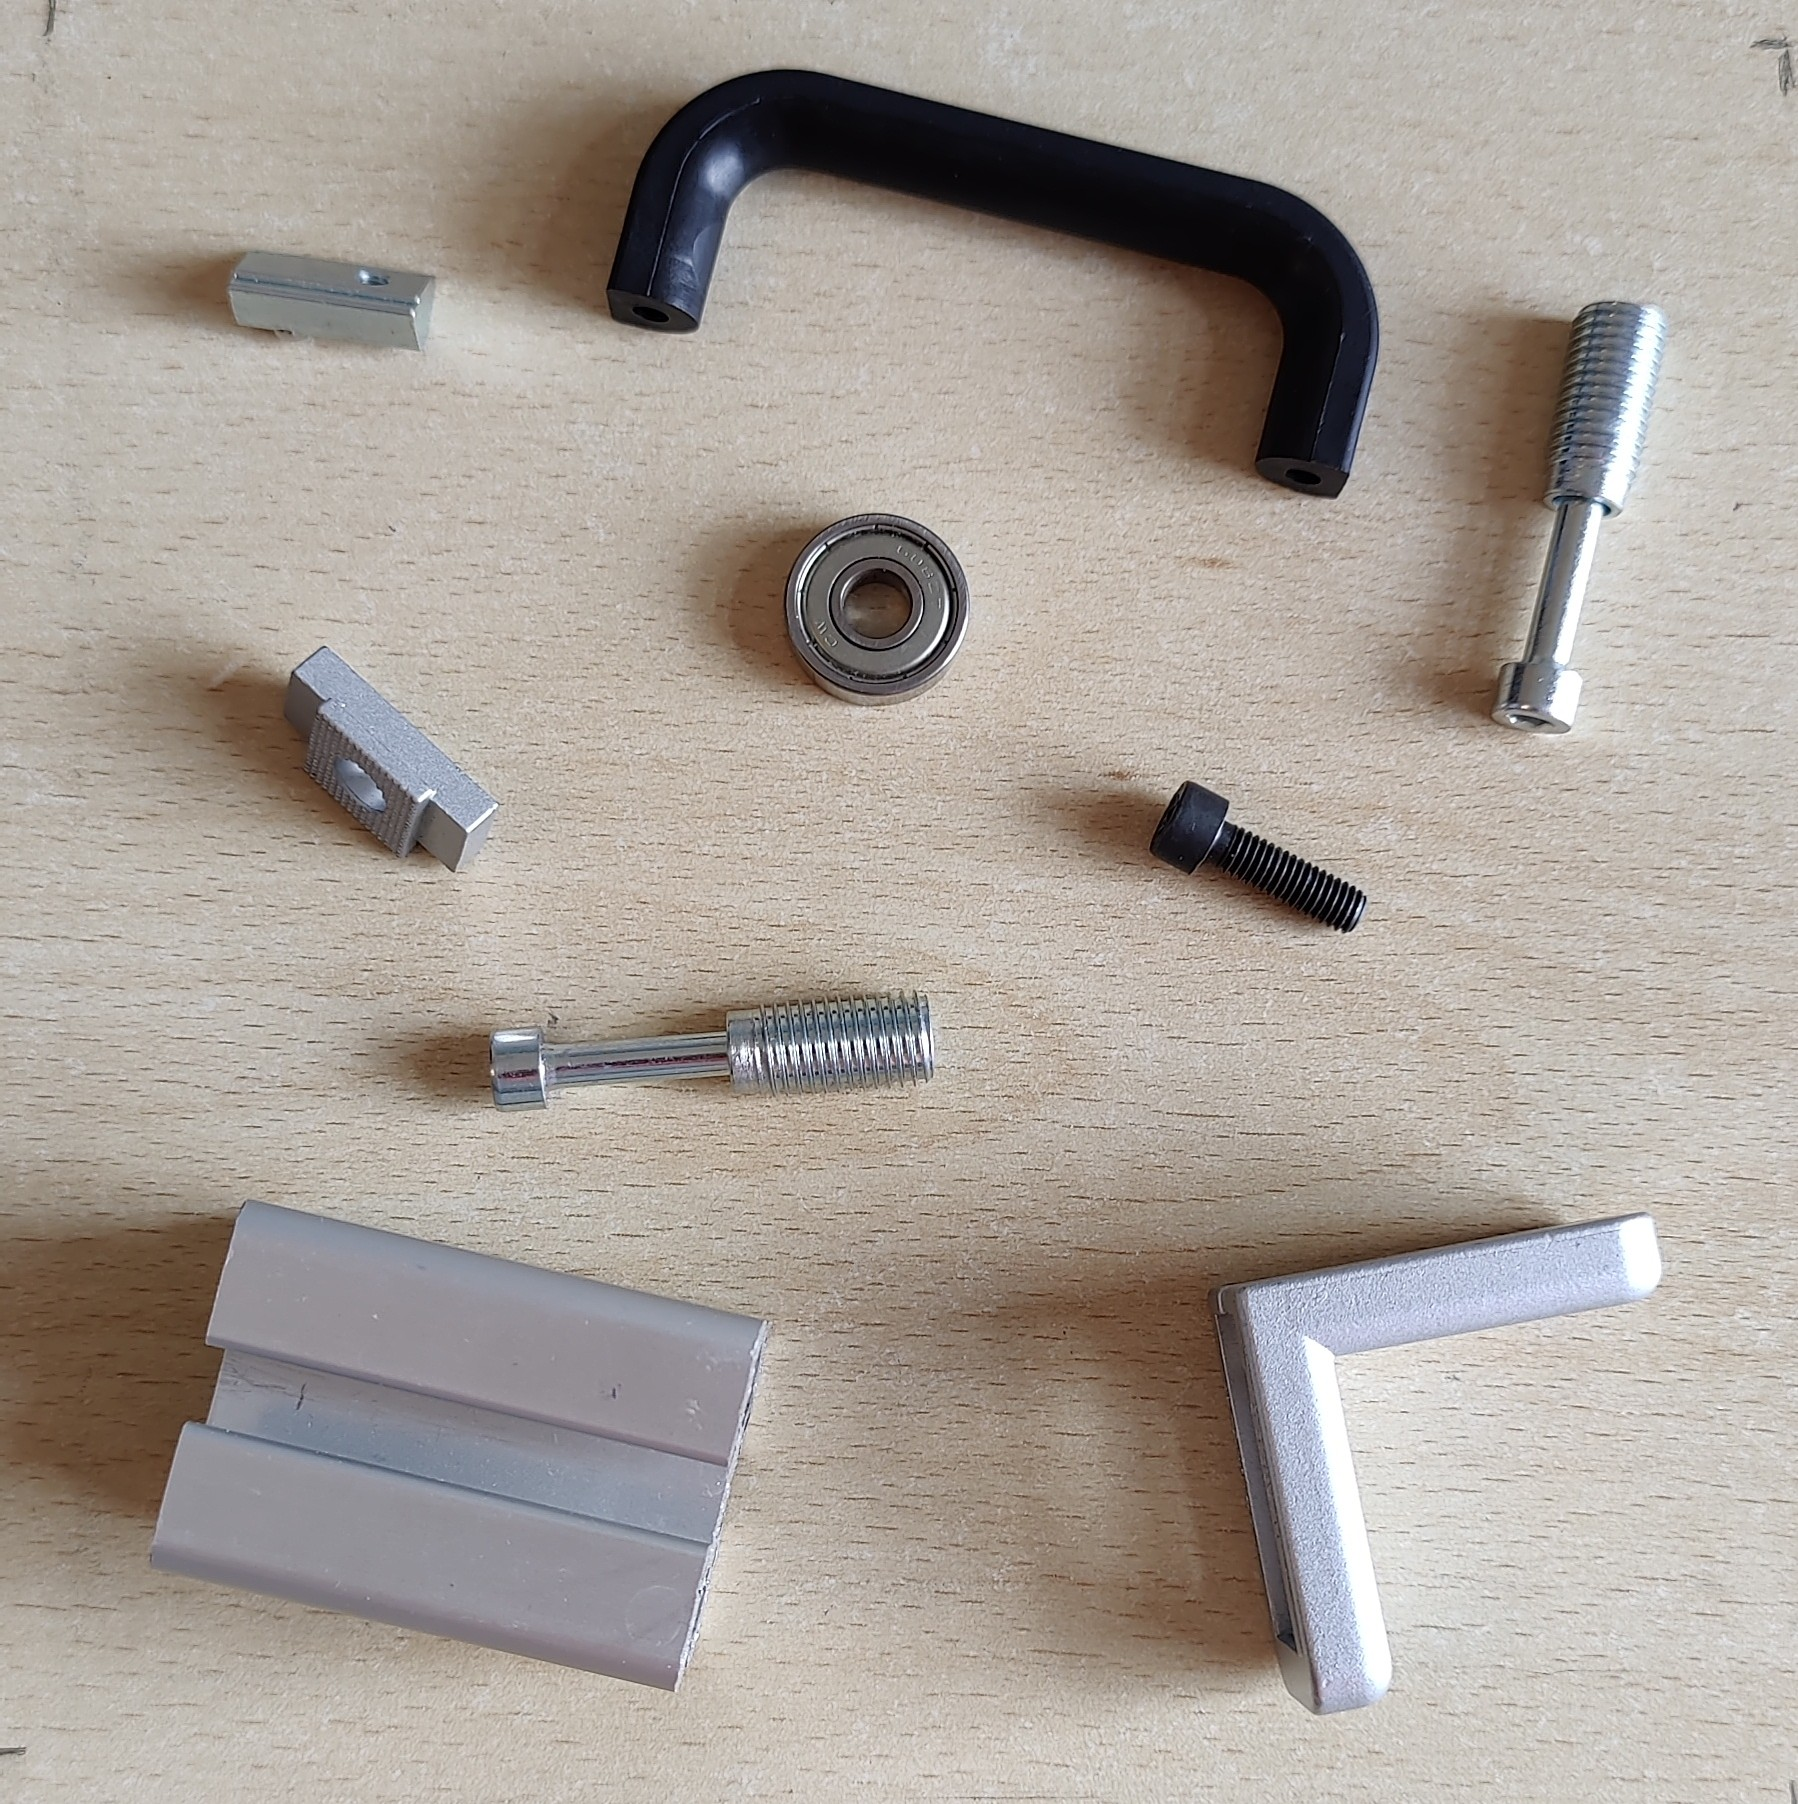Aluminium Extension: (143, 1197, 771, 1692)
Ball Bearing: (782, 509, 971, 709)
Multiwinkel: (1205, 1210, 1665, 1718)
Pull Handle: (603, 63, 1385, 500)
Shoulder Socket Head Cap Screw: (1487, 300, 1670, 737), (487, 986, 940, 1114)
Socket Head Cap Screw: (1144, 779, 1368, 937)
T Nut Square: (280, 645, 502, 876)
T Spring Nut: (226, 247, 440, 357)
